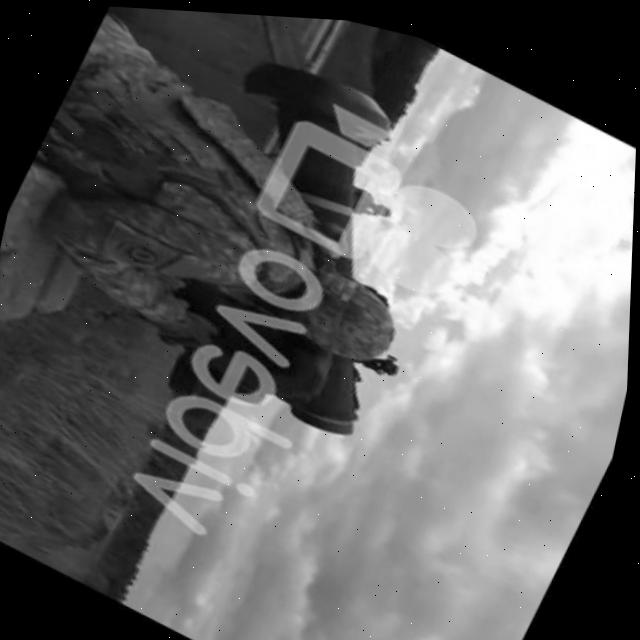rocket: (118, 18, 505, 459)
